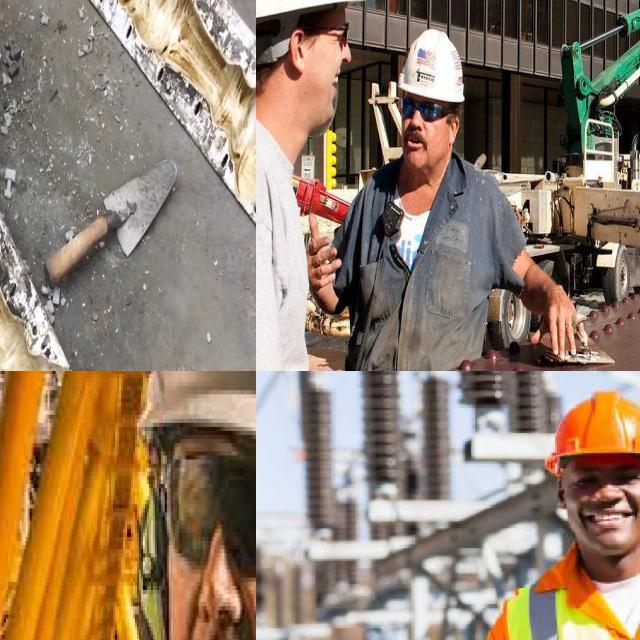Ear-protection: (131, 471, 165, 640)
No_Ear-Protection: (256, 0, 354, 134), (391, 61, 464, 176), (557, 477, 567, 510)
No_Glasses: (568, 466, 640, 488)
face_nomask: (567, 487, 640, 553)
glasses: (147, 439, 256, 573)
head_helmet: (131, 371, 256, 500), (545, 391, 640, 475)
